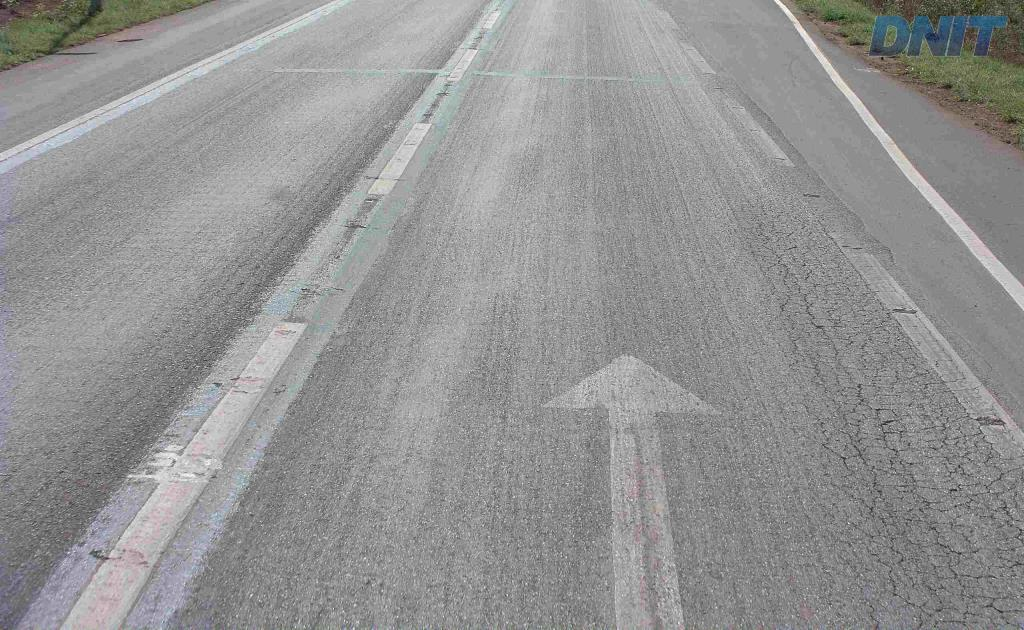crack: (873, 417, 940, 513), (930, 561, 1012, 613), (830, 413, 870, 481), (885, 528, 925, 587)
